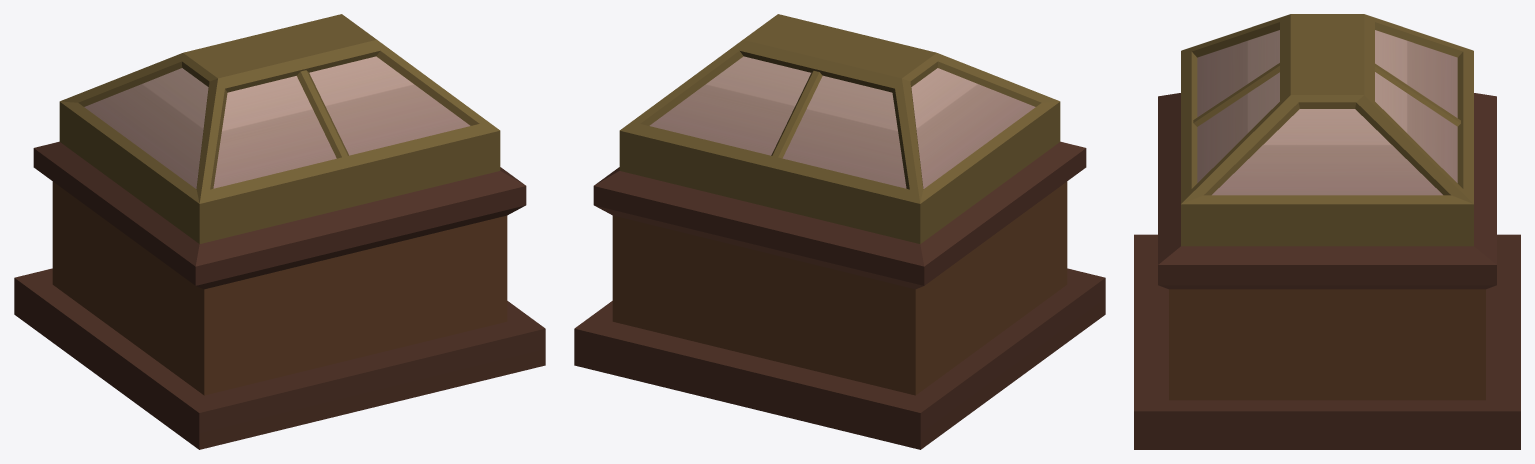
File: RoofLights_1_D.fbx
The picture shows the model from 3 angles, left to right: view 1: azimuth 30°, elevation 25°; view 2: azimuth 150°, elevation 25°; view 3: azimuth 270°, elevation 25°; orthographic projection. The views are drawn at different scales.
Parts seen in each view (by area): view 1: RoofLights_1_D; view 2: RoofLights_1_D; view 3: RoofLights_1_D.
Boxes of the visible parts, x1,y1,x2,y2 form: RoofLights_1_D: (14, 14, 545, 449); RoofLights_1_D: (574, 14, 1105, 449); RoofLights_1_D: (1134, 14, 1520, 449).
Bounding box in the file's own units: 107 × 86.65 × 98.88.
